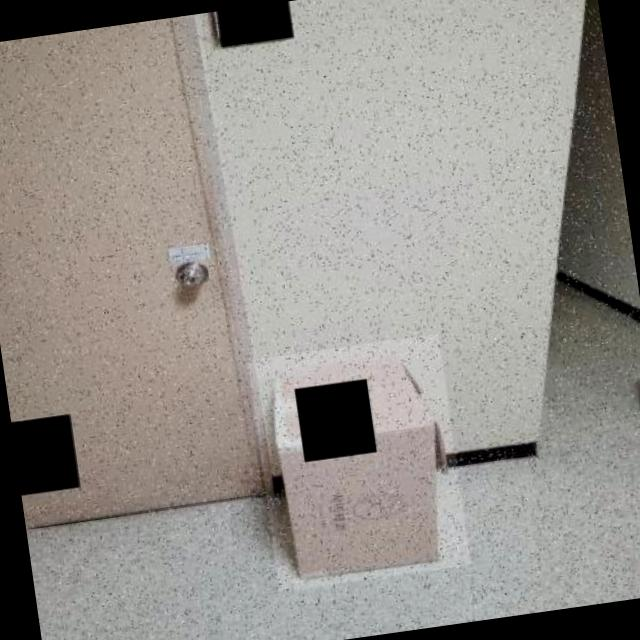box: (246, 334, 472, 592)
